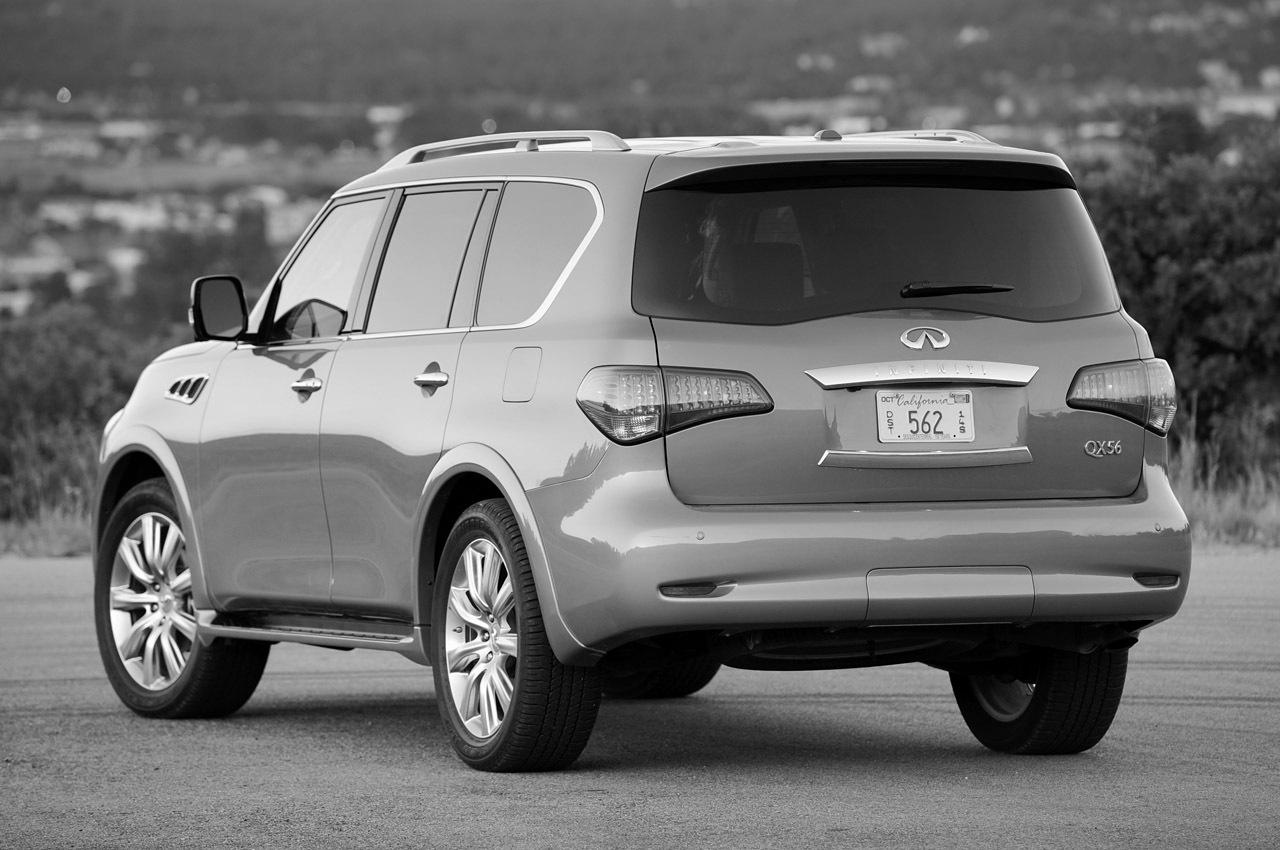car: (88, 122, 1200, 772)
